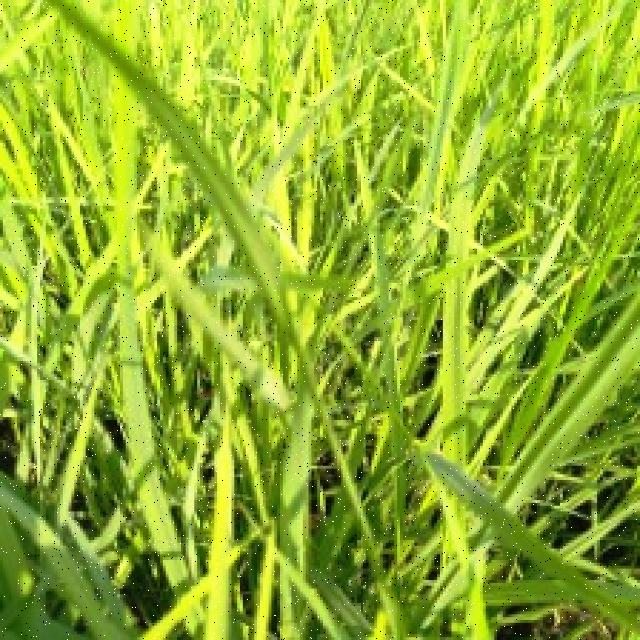health: (20, 220, 200, 431)
